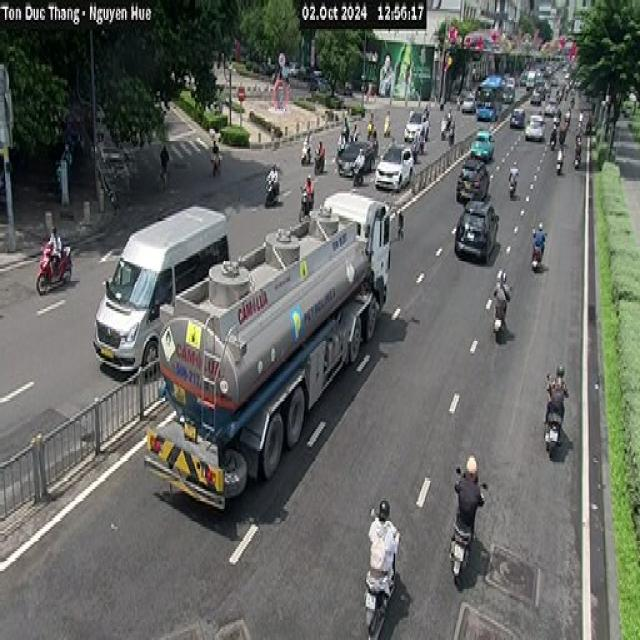bus: (479, 75, 508, 129)
car: (92, 202, 228, 380), (459, 203, 498, 265), (375, 134, 416, 191), (458, 154, 492, 198), (471, 127, 498, 160), (406, 110, 426, 149), (526, 112, 546, 143), (510, 108, 529, 132), (463, 90, 477, 118)
motorcycle: (448, 491, 484, 601), (364, 569, 396, 638), (35, 240, 73, 293), (542, 386, 570, 453), (492, 293, 515, 344), (154, 156, 175, 190), (295, 190, 318, 217), (261, 174, 283, 200), (572, 145, 590, 173), (530, 240, 544, 271), (313, 154, 330, 178), (351, 166, 365, 194), (301, 149, 314, 175), (332, 145, 346, 168), (508, 171, 518, 198), (551, 160, 563, 181)
person: (364, 498, 400, 638), (459, 451, 482, 538), (548, 360, 570, 422), (46, 224, 62, 278), (494, 274, 510, 326), (302, 171, 318, 211), (532, 220, 546, 264), (337, 121, 353, 154), (159, 142, 169, 187), (355, 144, 367, 178), (266, 158, 279, 186), (208, 126, 220, 152), (576, 130, 588, 154), (508, 156, 517, 184), (303, 125, 311, 154), (552, 145, 564, 160)
truck: (142, 191, 392, 511)
